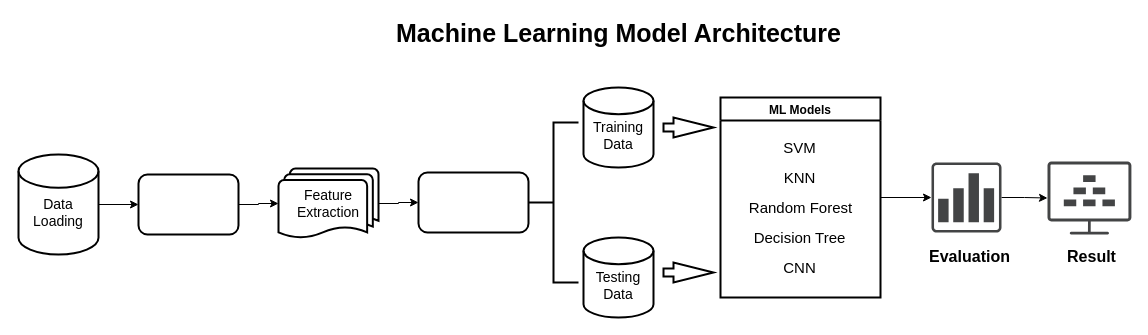
This 1148x335 diagram has some shape labels left out. Here are the shapes that lost their labels. From the top down, the centre of each, then its label:
At point (188, 204): "Data Cleaning".
At point (473, 202): "Data Transformation".
